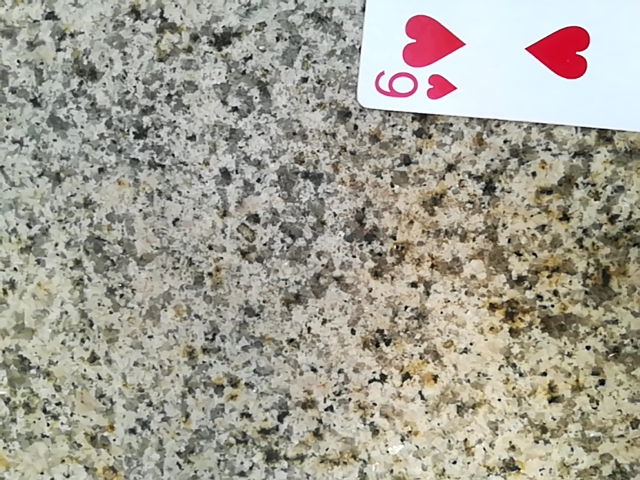hx 6: (349, 0, 640, 140)
